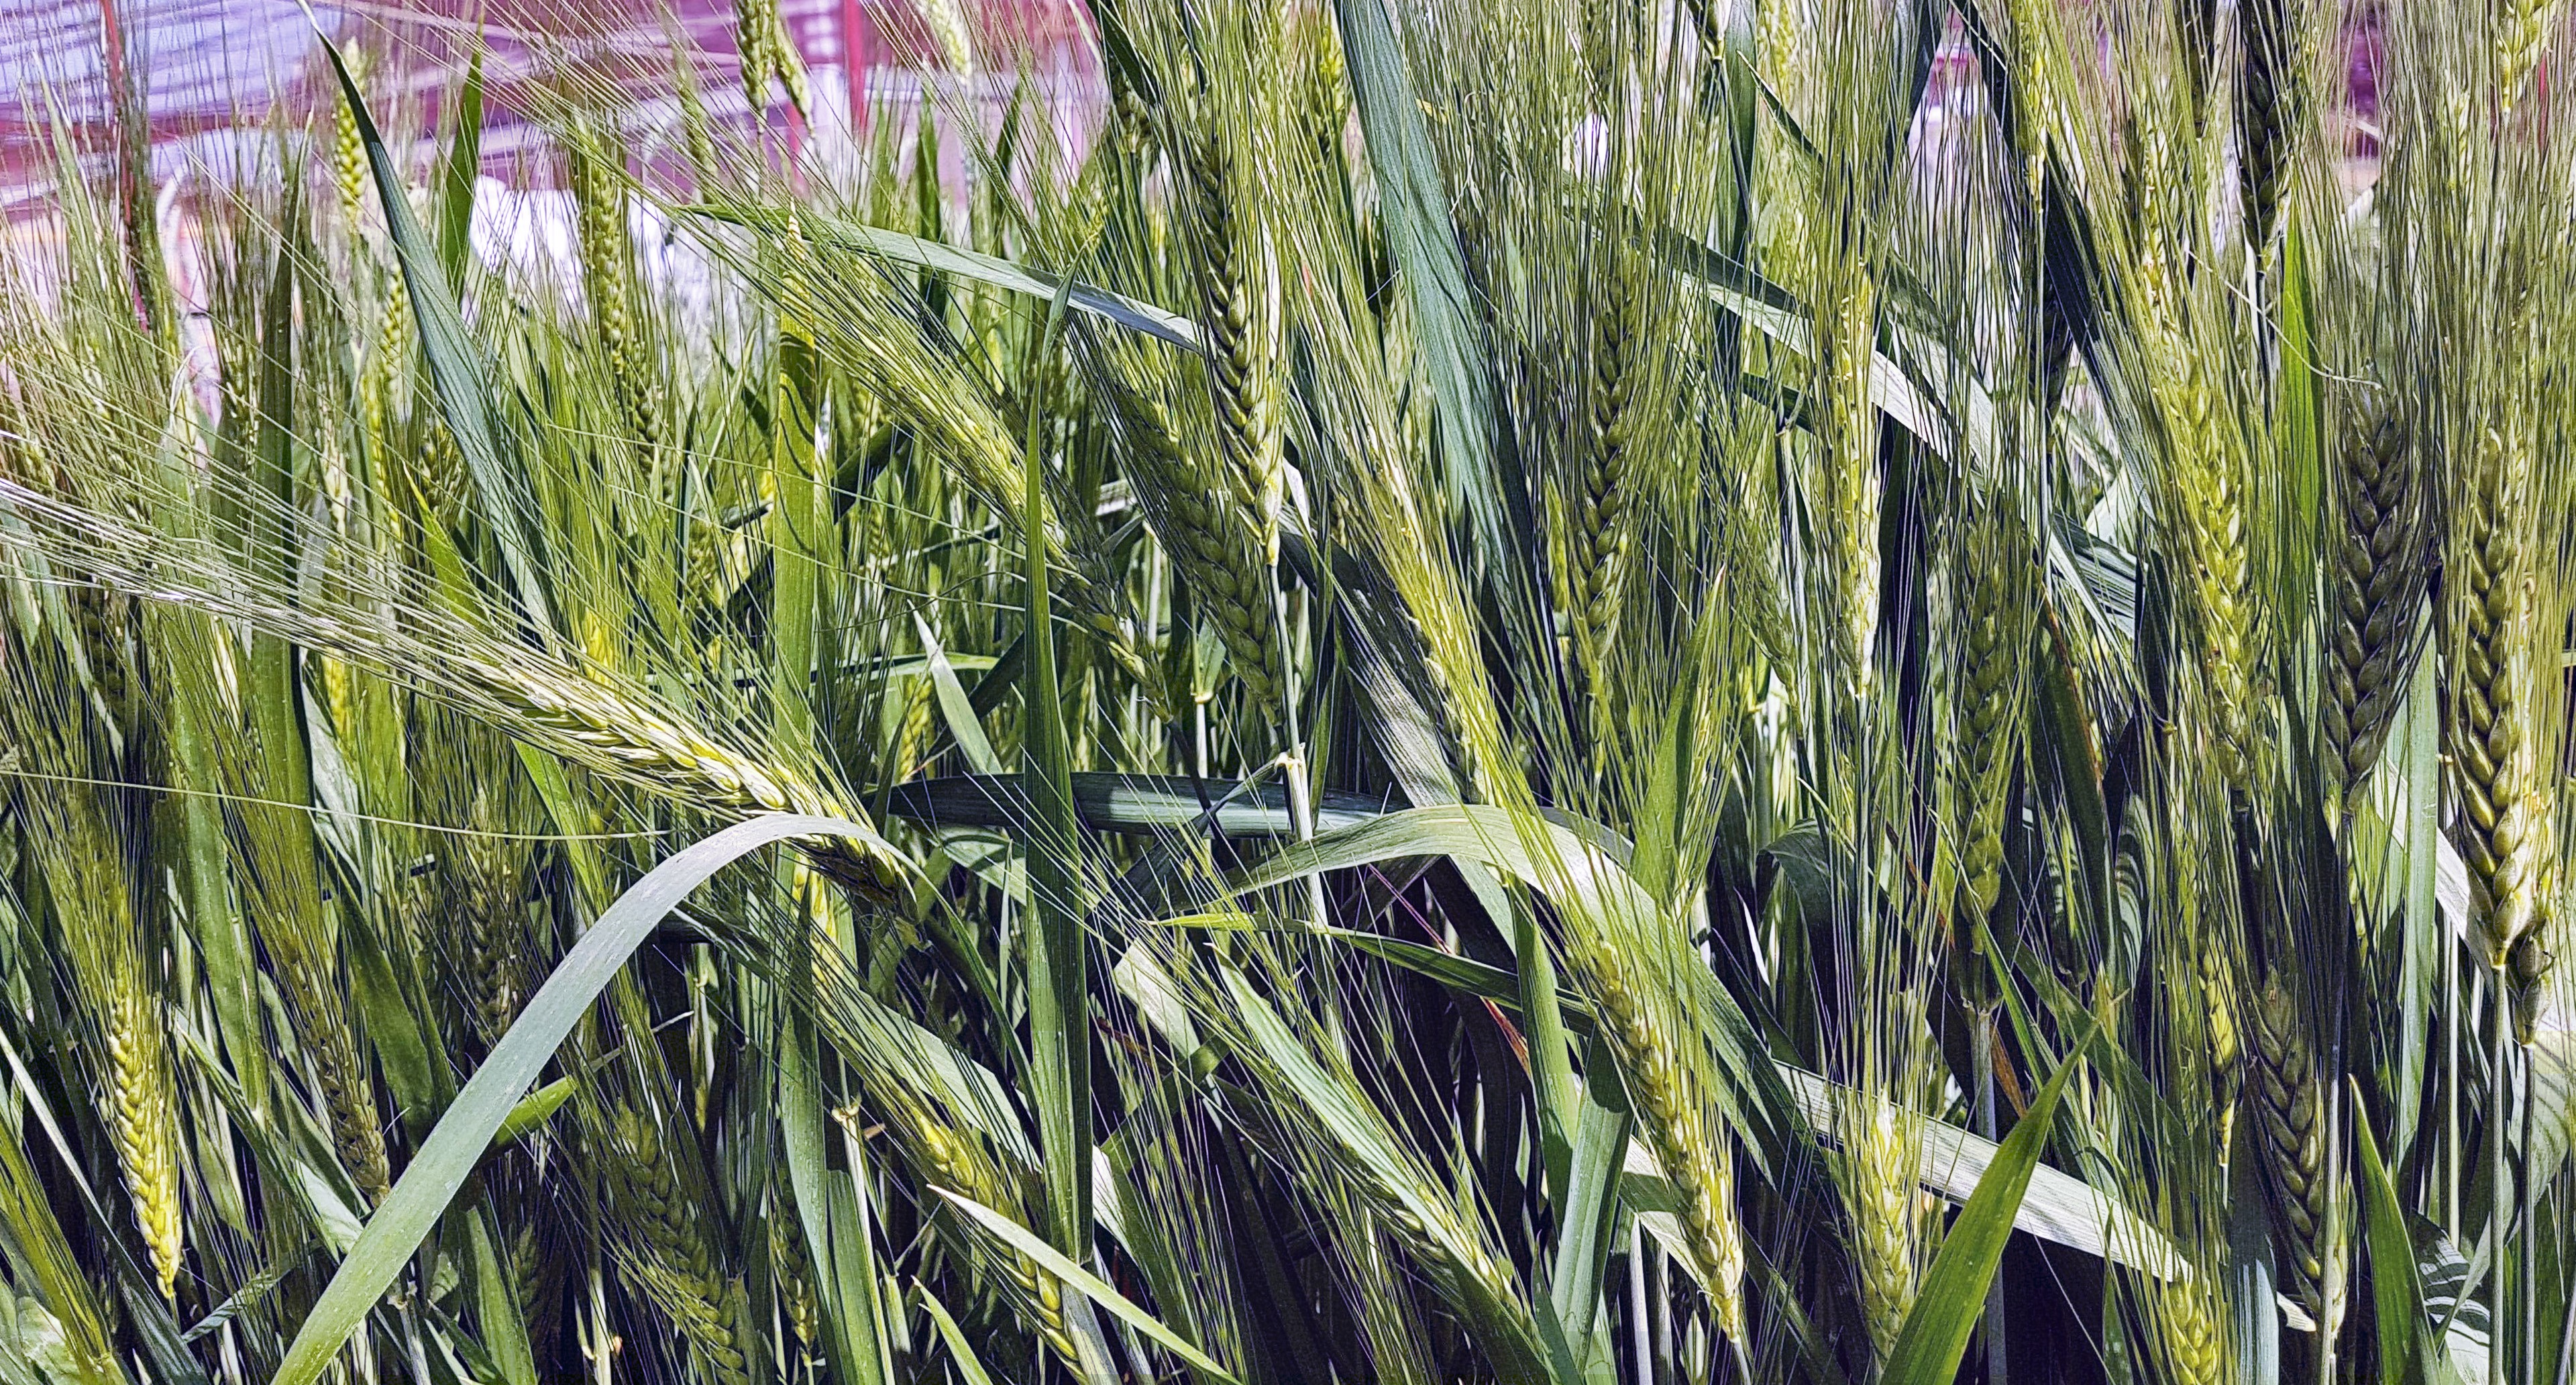Healthy Wheat: (1115, 104, 1311, 720), (2302, 327, 2434, 843), (97, 991, 184, 1271)
